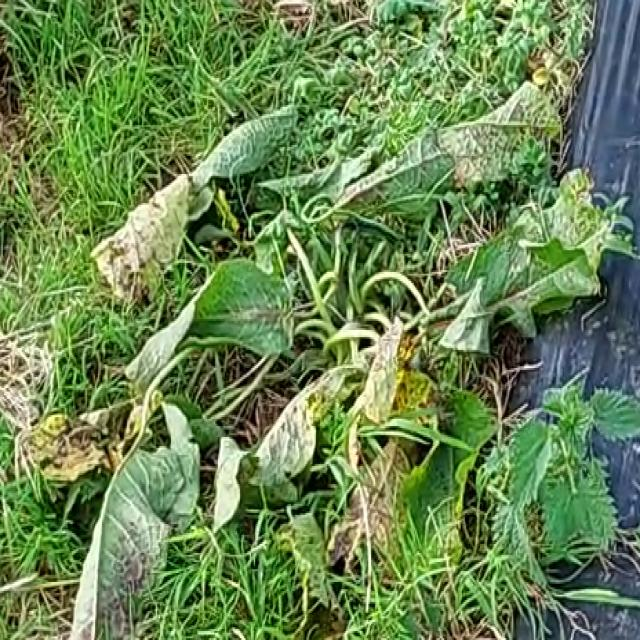organic waste: (70, 78, 586, 635)
